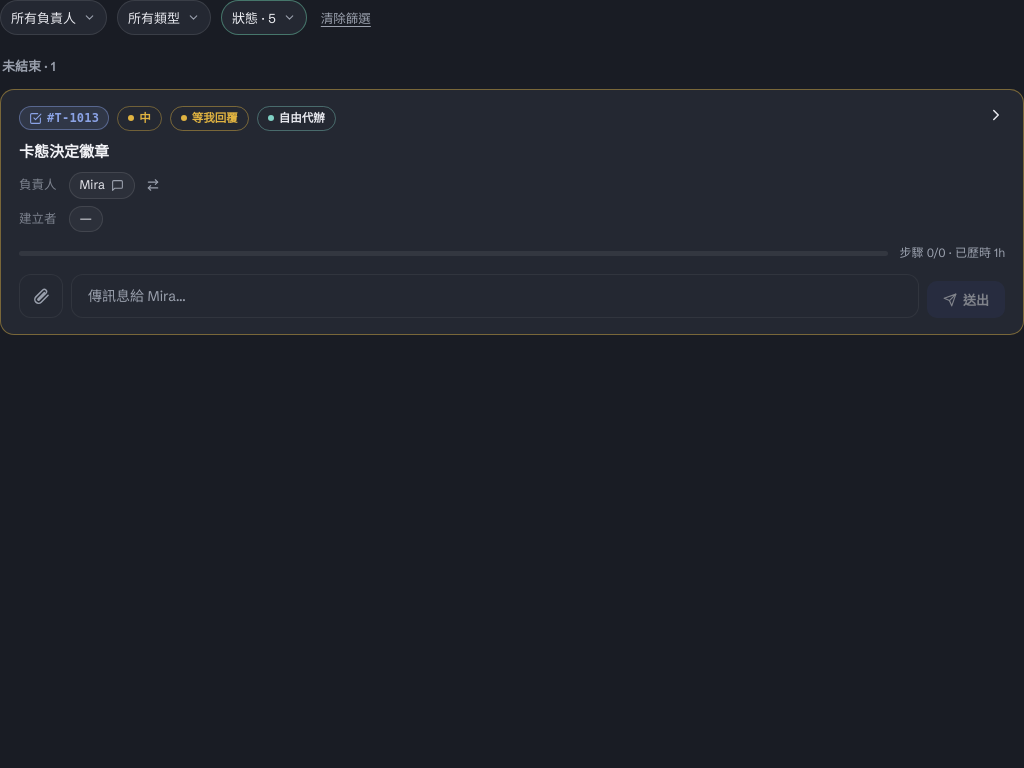
TaskCard 卡綁 step › shows the waiting badge only while the bound card is WAITING; answered/expired render their own badges
Click the button with test id "task-card" at (512,320), box [0, 88, 1023, 335]
(page scrolled)
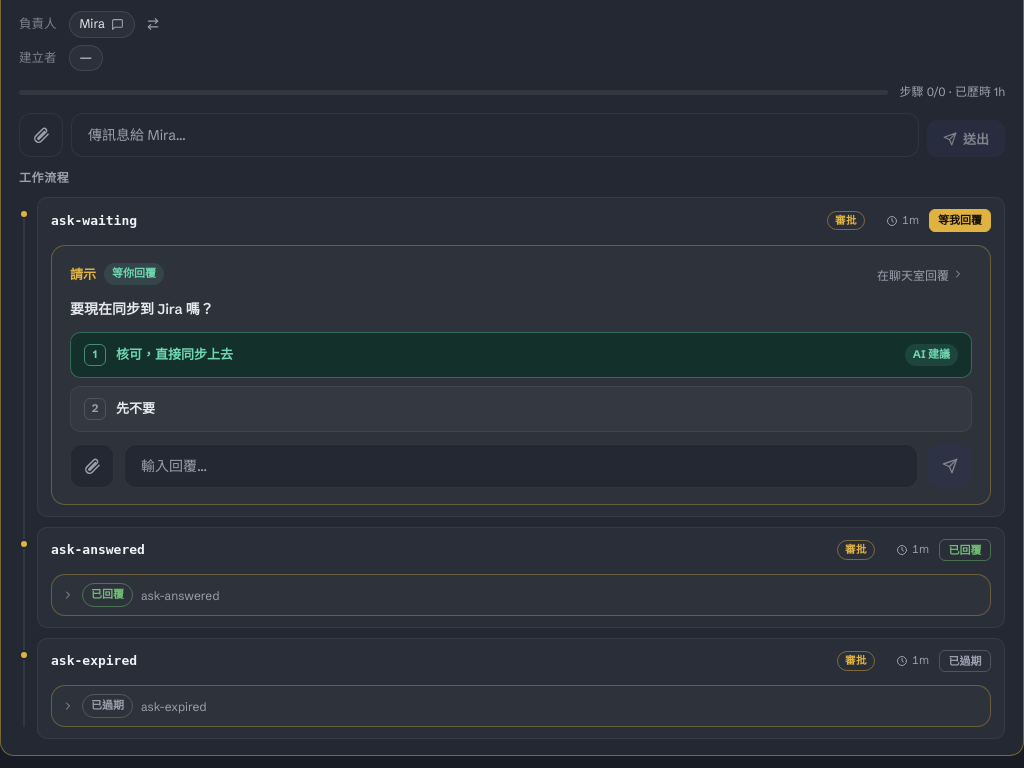
Expected: the text with class "task-step-badge--waiting_owner" reads "等我回覆", [938, 213, 982, 227]
Expected: the text with test id "step-card-answered" reads "已回覆", [948, 543, 982, 557]
Expected: the text with test id "step-card-expired" reads "已過期", [948, 654, 982, 668]
